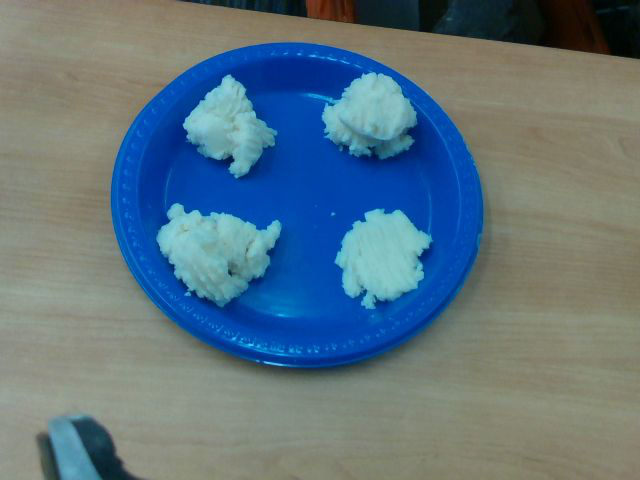mashed_potato: (156, 203, 281, 307), (335, 208, 433, 309), (184, 75, 277, 177), (322, 72, 418, 159)
